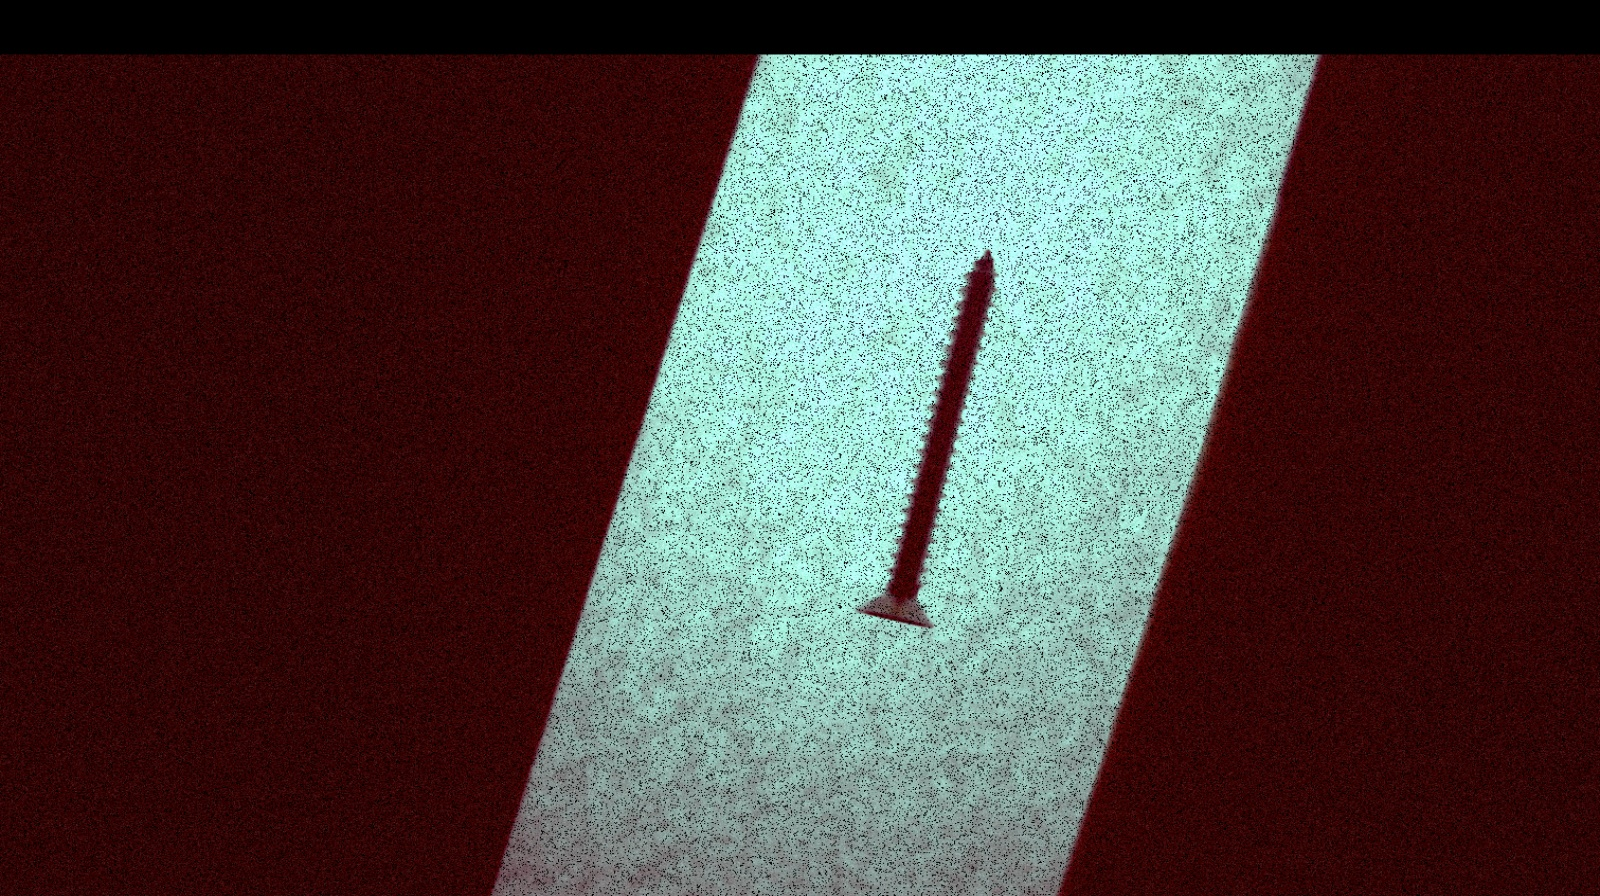S002: (843, 243, 1033, 635)
